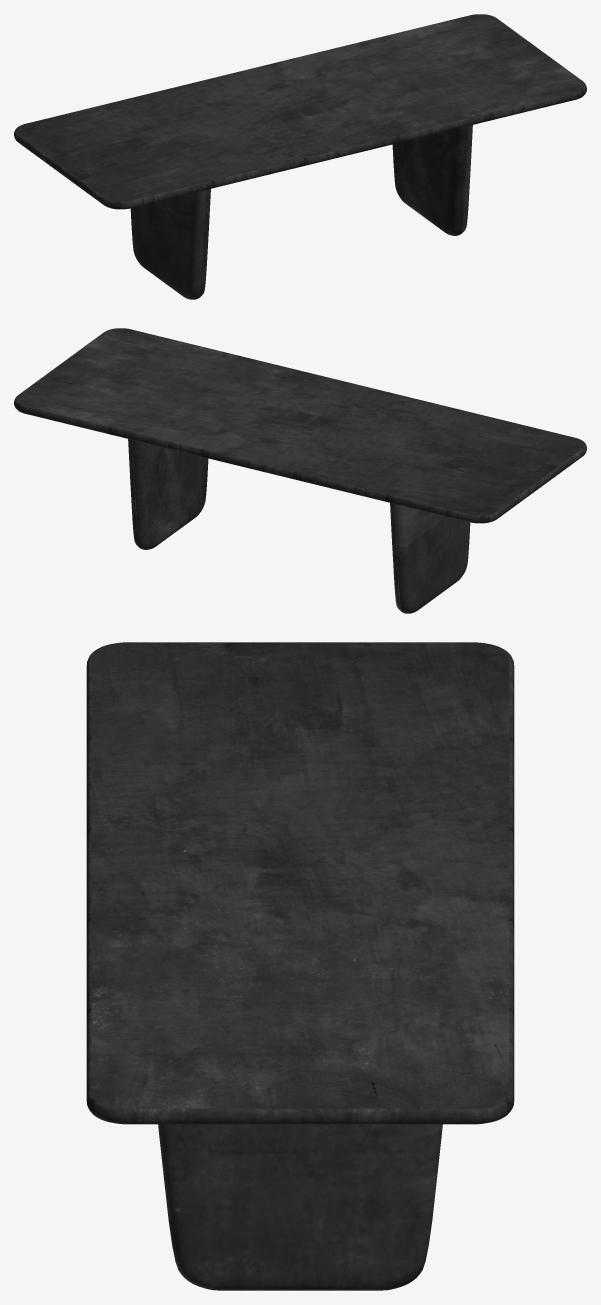
Rendered from desk.fbx.
3 renders of one model, top to bottom at view 1: azimuth 30°, elevation 25°; view 2: azimuth 150°, elevation 25°; view 3: azimuth 270°, elevation 25°, orthographic. The views are drawn at different scales.
Visible parts, largest first — view 1: willisau_vulcano_obj; view 2: willisau_vulcano_obj; view 3: willisau_vulcano_obj.
Part boxes in pixels (x1=…): willisau_vulcano_obj: x1=14, y1=14, x2=586, y2=299; willisau_vulcano_obj: x1=14, y1=328, x2=586, y2=613; willisau_vulcano_obj: x1=86, y1=642, x2=514, y2=1290.
Size of the model in its own units: 279 by 78.96 by 107.
Materials: 2 (1 with a texture image).
